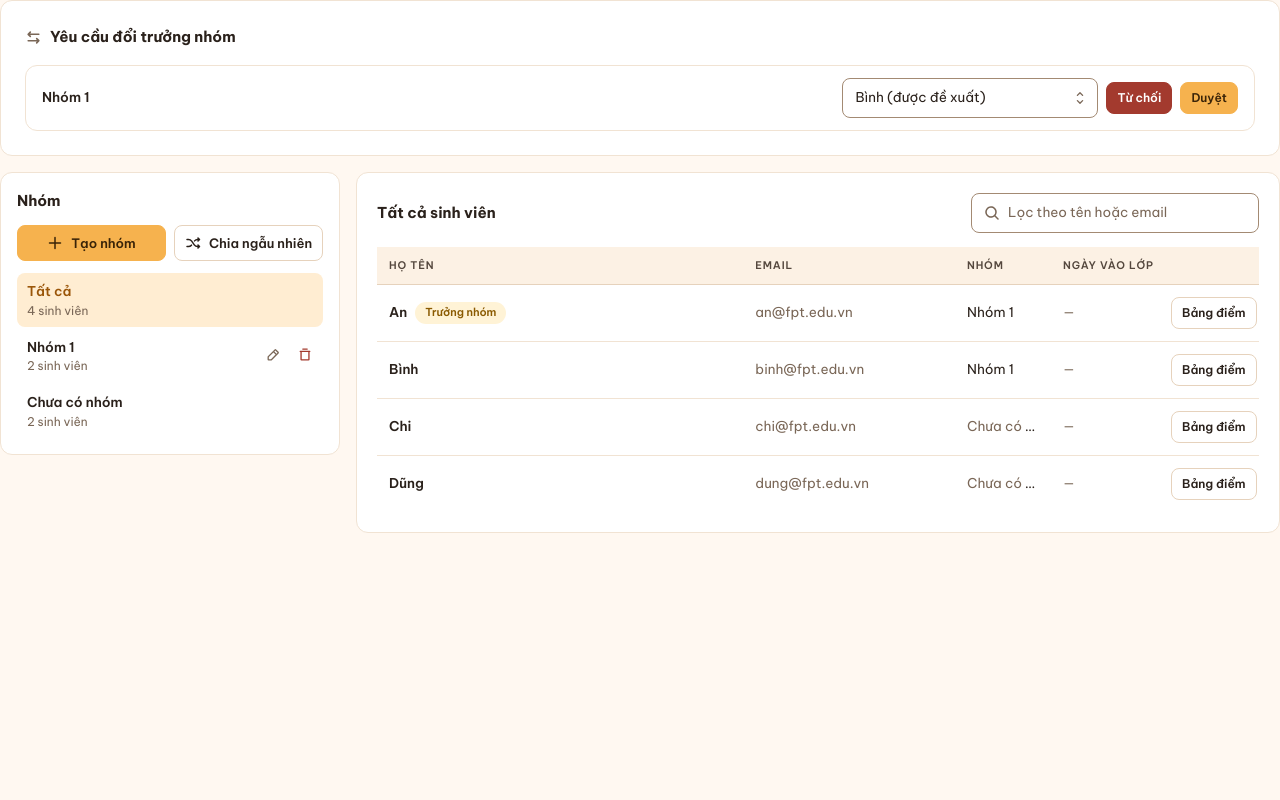
Scenario: ClassGroupsPanel › tên nhóm trùng hoặc chưa chọn ai thì không lưu được
Click the button "Tạo nhóm". click: (92, 243)
box: [17,225,166,261]
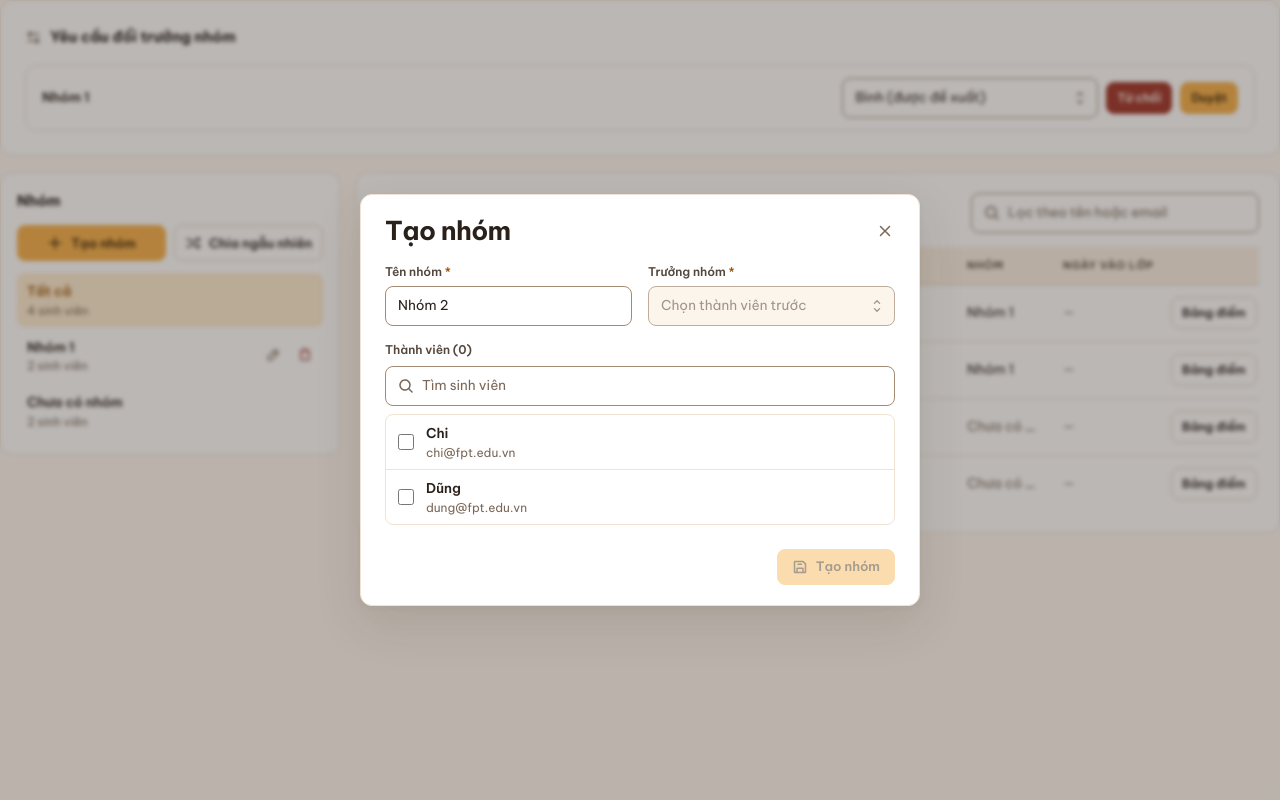
expect the button "Tạo nhóm" is disabled: met, box [777,549,895,585]
Click the checkbox named "Chọn Chi". click: (406, 442)
box: [398,434,414,450]
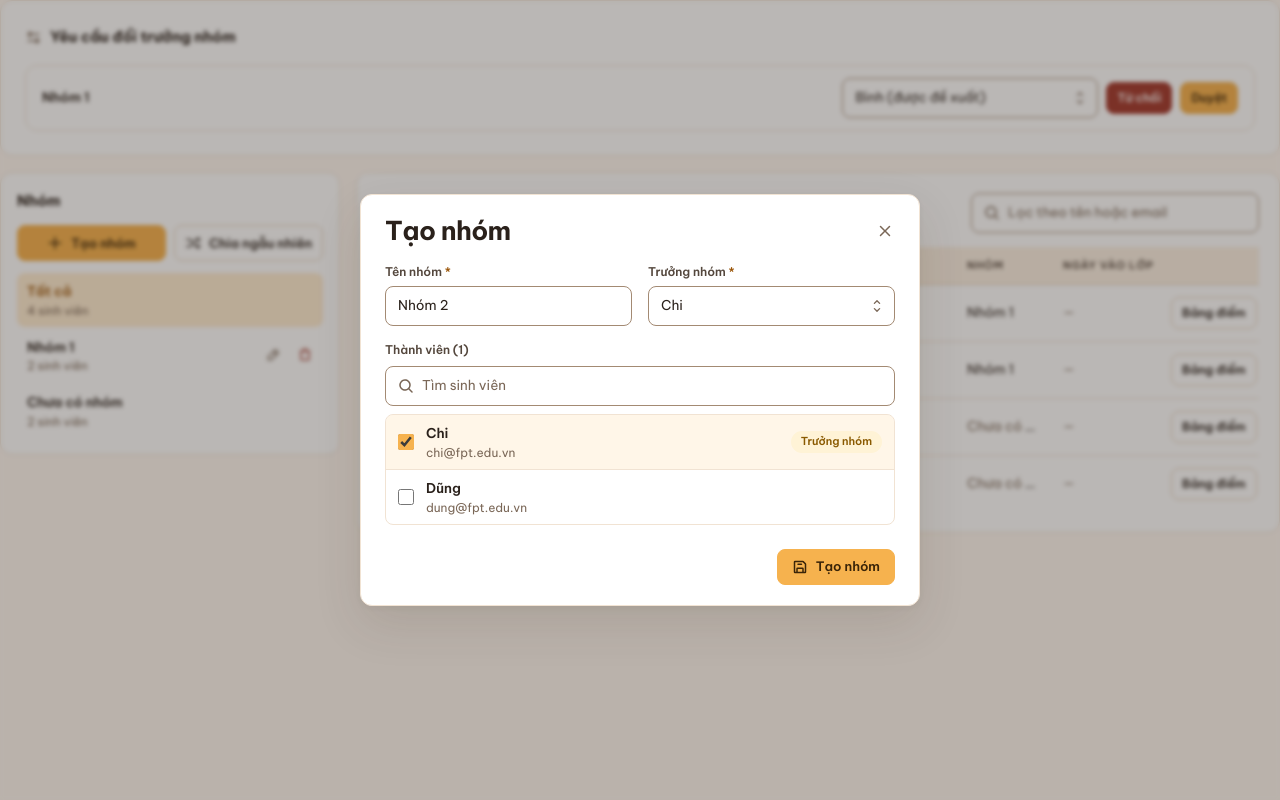
expect the button "Tạo nhóm" is enabled: met, box [777,549,895,585]
Replace the text in the field labelled "Tên nhóm *" with "nhóm 1". click: (508, 306)
box: [398,295,619,317]
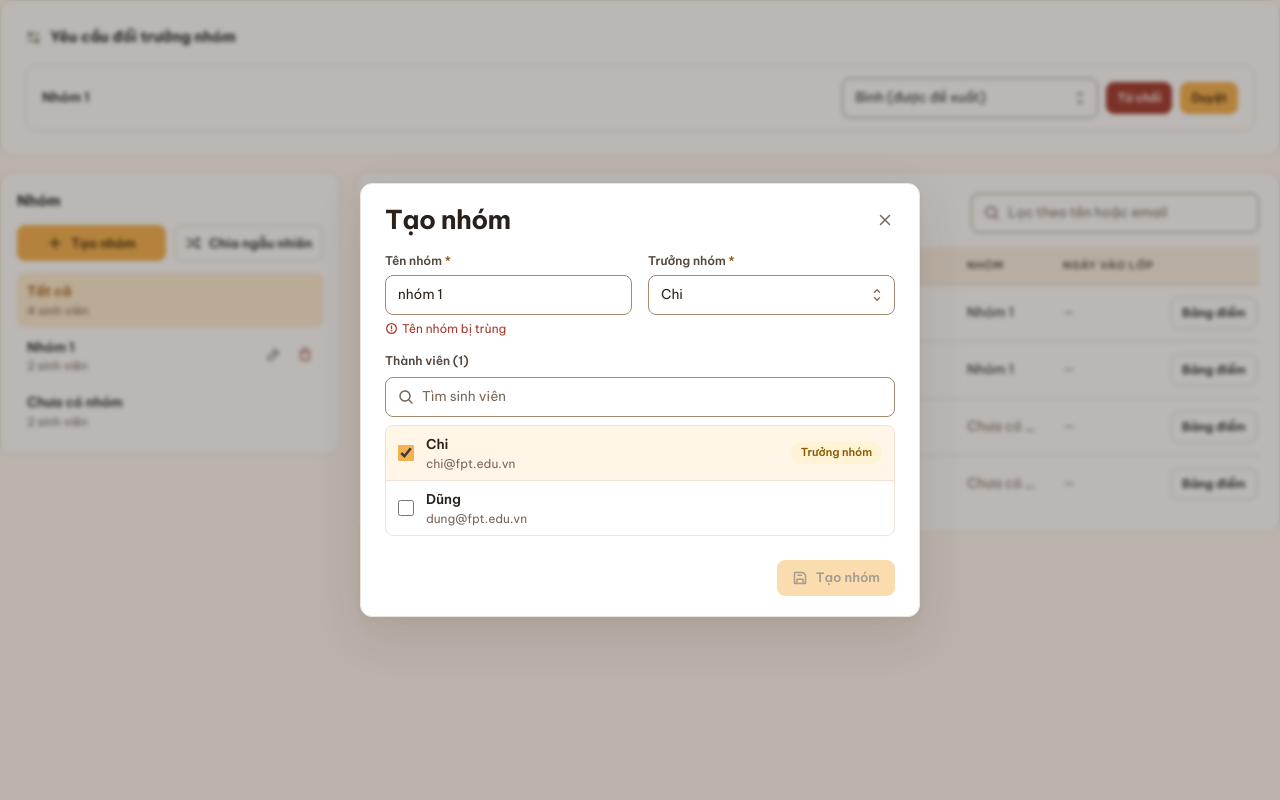
expect the dialog "Tạo nhóm" shows "Tên nhóm bị trùng": met, box [402,321,506,336]
expect the button "Tạo nhóm" is disabled: met, box [777,560,895,596]
